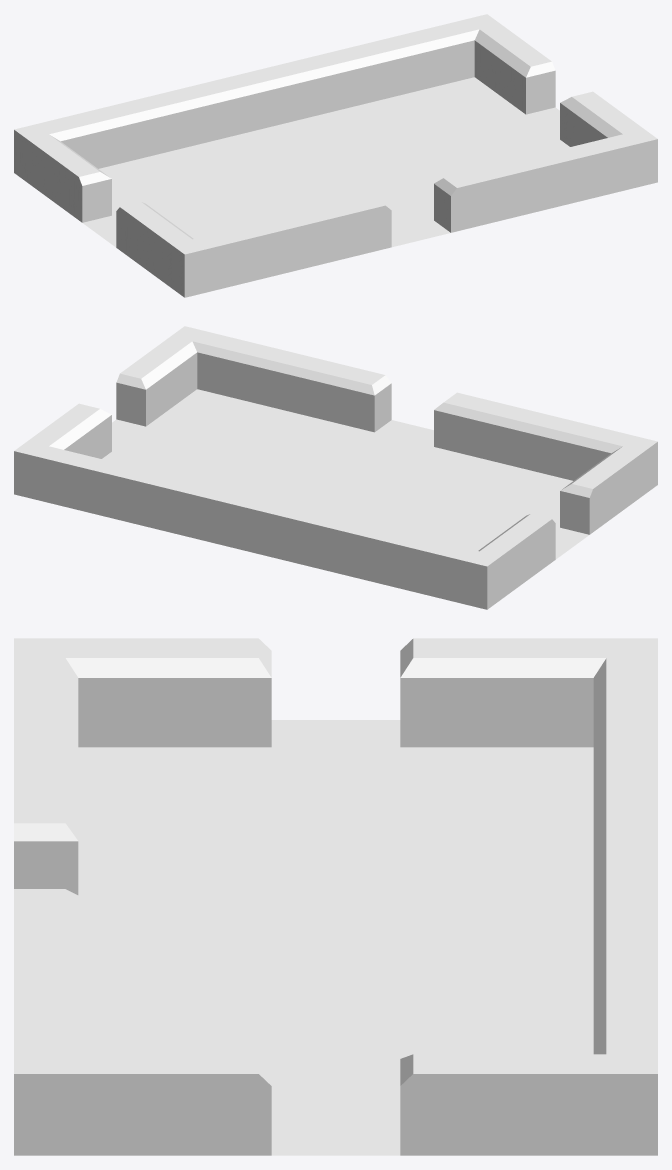
Rendered from Room16.obj.
3 renders of one model, top to bottom at view 1: azimuth 30°, elevation 25°; view 2: azimuth 150°, elevation 25°; view 3: azimuth 270°, elevation 25°, orthographic. The views are drawn at different scales.
Visible parts, largest first — view 1: room1x7; view 2: room1x7; view 3: room1x7.
Boxes of the visible parts, box(x1,y1,x2,y2) form: room1x7: box(14, 14, 657, 297); room1x7: box(14, 326, 657, 609); room1x7: box(14, 638, 657, 1155).
Size of what is drawn, in the model's own units: 80 by 7 by 50.
